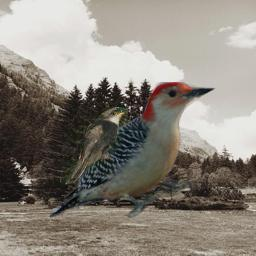Cuckoo: (60, 107, 128, 187)
Woodpecker: (50, 82, 218, 218)
